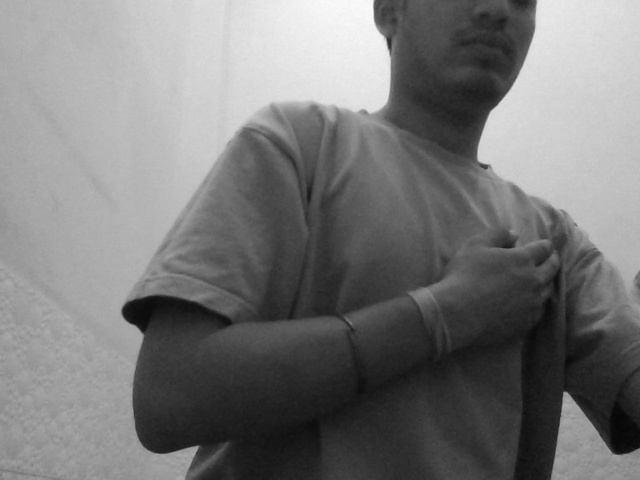Sorry: (385, 206, 588, 361)
